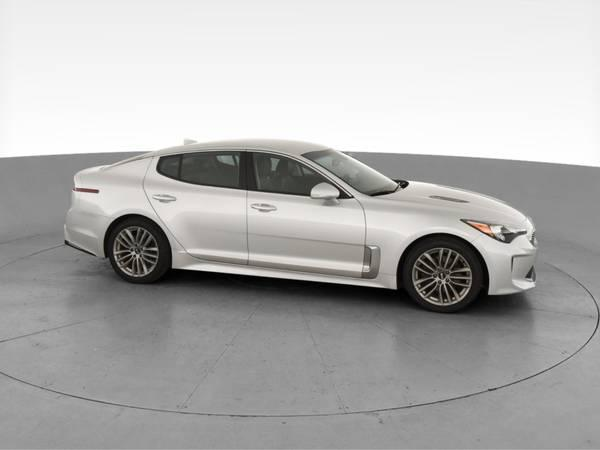Front_Bumper: (468, 234, 537, 296)
Front_Fender: (355, 198, 483, 288)
Front_Right_Door: (249, 189, 367, 285)
Front_Right_Window: (249, 149, 358, 198)
Front_Windshield: (307, 146, 405, 195)
Hood: (365, 180, 528, 222)
Rear_Bumper: (64, 208, 115, 260)
Rear_Fender: (69, 170, 159, 222)
Rear_Right_Door: (146, 171, 249, 274)
Rear_Right_Window: (147, 148, 249, 191)
Right_Headlight: (459, 217, 525, 244)
Roof: (78, 134, 367, 197)
Wheel: (399, 237, 486, 316), (107, 219, 168, 280)
